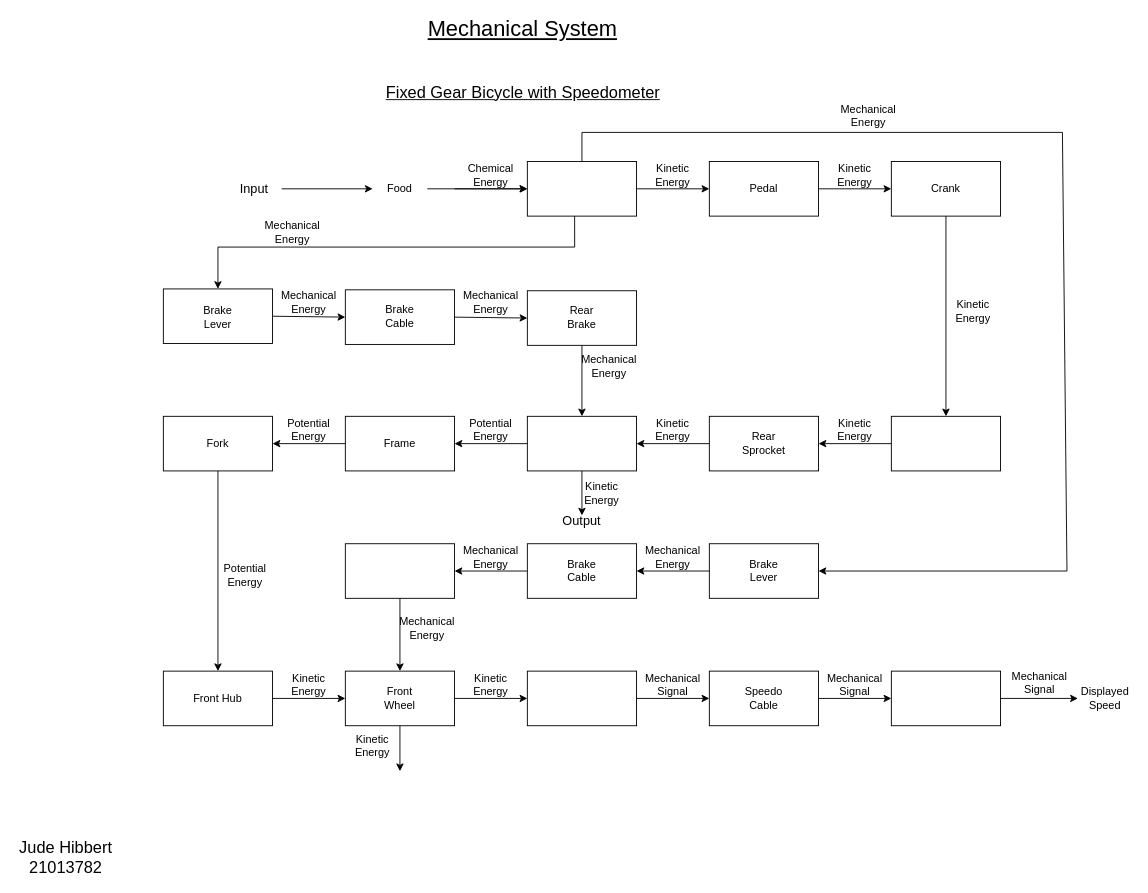
Image size: 1148x893. Some labels were removed from this diagram. Each missing label, with the centre of its shape:
"Chain" belongs at point (945, 443).
"Cyclist" belongs at point (581, 188).
"Front Brake" belongs at point (399, 570).
"Rear Wheel" belongs at point (581, 443).
"Speedo 0-50 kph" belongs at point (945, 698).
"Speedo Gear" belongs at point (581, 698).
